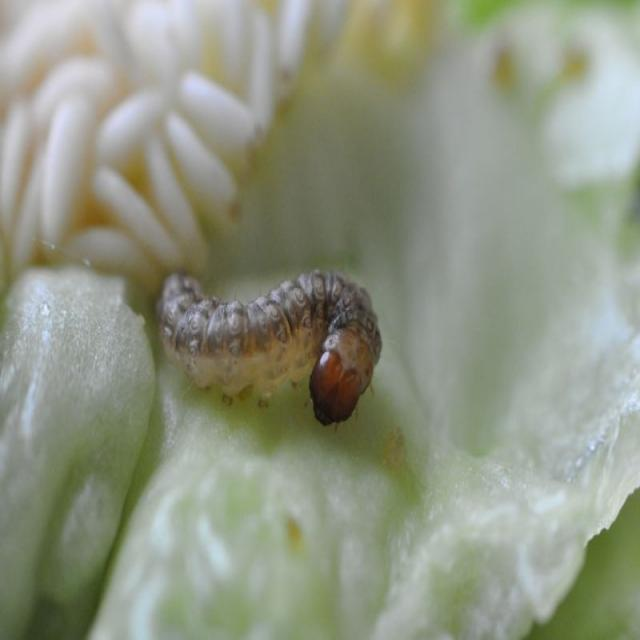cornborer-Larva-: (138, 235, 404, 431)
